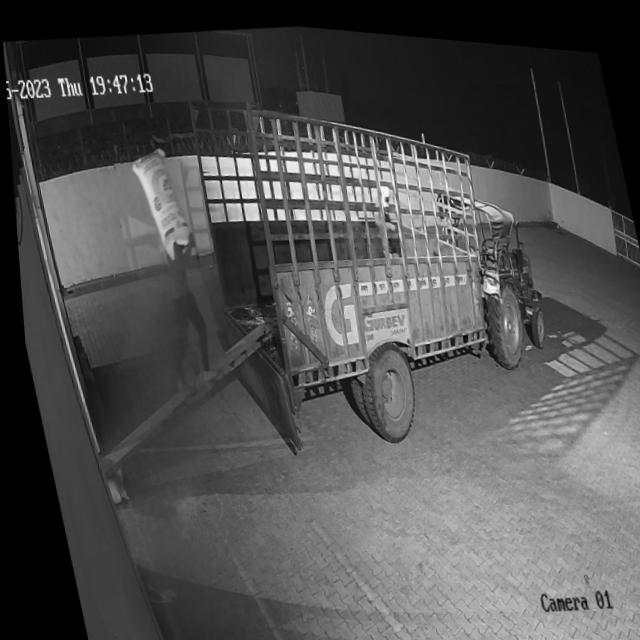sack: (125, 141, 193, 260)
